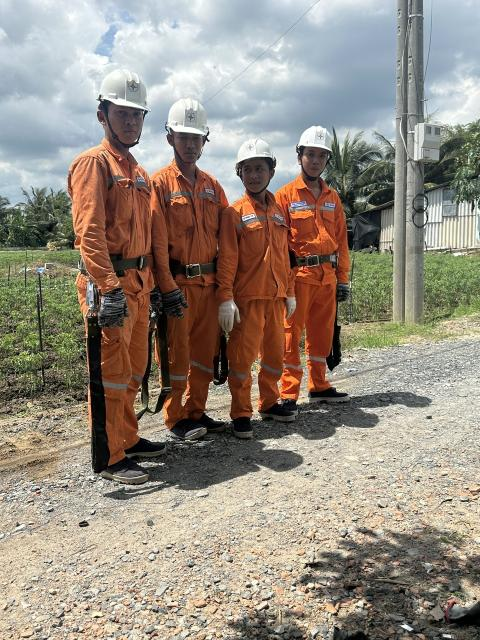gloves: (207, 294, 248, 334), (99, 285, 129, 335), (158, 281, 190, 322), (140, 283, 168, 320), (276, 284, 304, 318), (332, 284, 352, 306)
harness: (75, 251, 162, 279), (157, 254, 229, 280), (287, 255, 357, 273)
helmet: (98, 58, 156, 132), (163, 94, 216, 150), (214, 135, 284, 172), (295, 127, 339, 160)
shoes: (93, 455, 157, 493), (122, 428, 174, 463), (226, 399, 259, 443), (166, 411, 206, 444), (257, 397, 297, 427), (308, 382, 357, 406), (185, 404, 228, 431), (272, 387, 305, 415)
